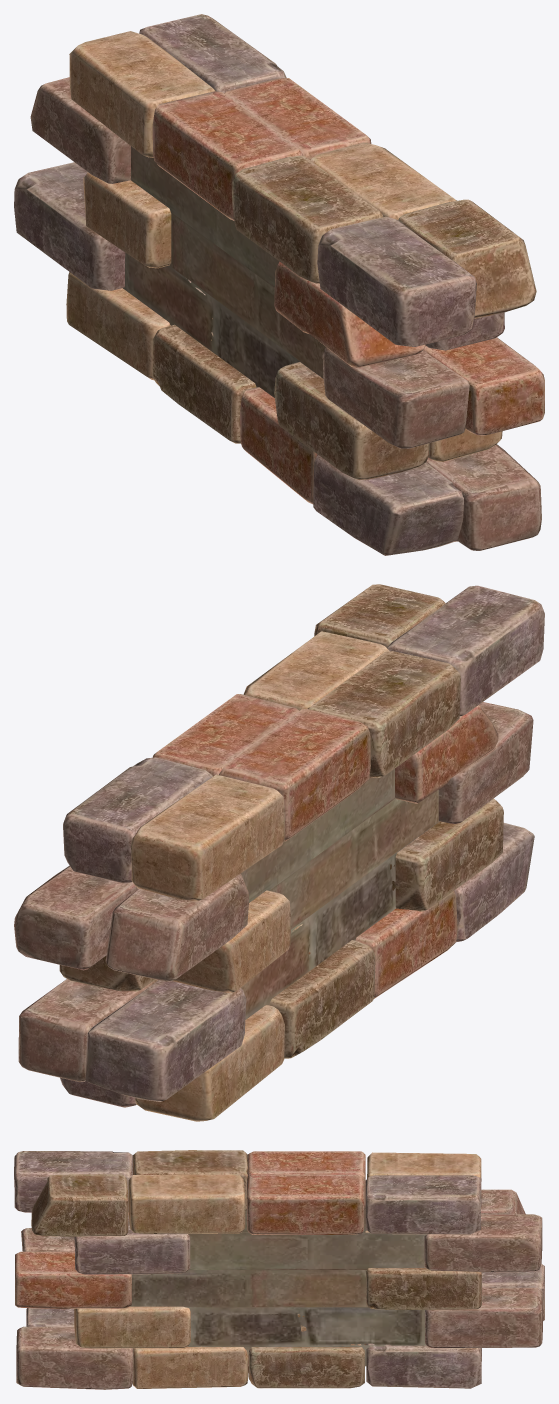
3 views of the same model, one above another, from view 1: azimuth 30°, elevation 25°; view 2: azimuth 150°, elevation 25°; view 3: azimuth 270°, elevation 25° (orthographic). The views are drawn at different scales.
Parts seen in each view (by area): view 1: SM_Human_Ruins_Brick_Dmg_04_LOD0; view 2: SM_Human_Ruins_Brick_Dmg_04_LOD0; view 3: SM_Human_Ruins_Brick_Dmg_04_LOD0.
Boxes of the visible parts, x1,y1,x2,y2 form: SM_Human_Ruins_Brick_Dmg_04_LOD0: [14, 14, 544, 555]; SM_Human_Ruins_Brick_Dmg_04_LOD0: [14, 584, 544, 1121]; SM_Human_Ruins_Brick_Dmg_04_LOD0: [14, 1150, 544, 1389].
Bounding box in the file's own units: 0.3389 × 0.5893 × 1.47.
2 materials, 2 textured.
